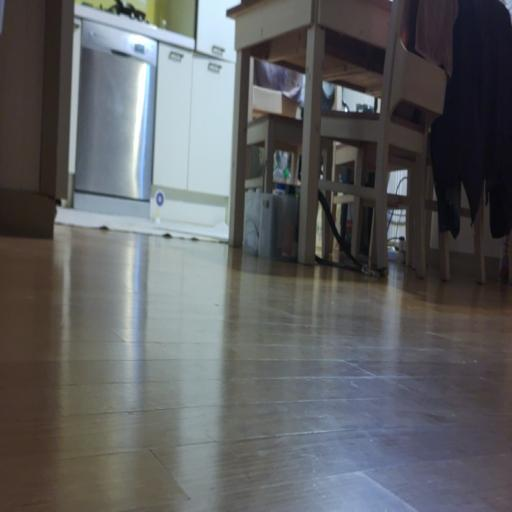target: (155, 191, 165, 206)
